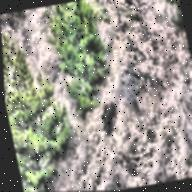boar: (95, 95, 123, 127)
